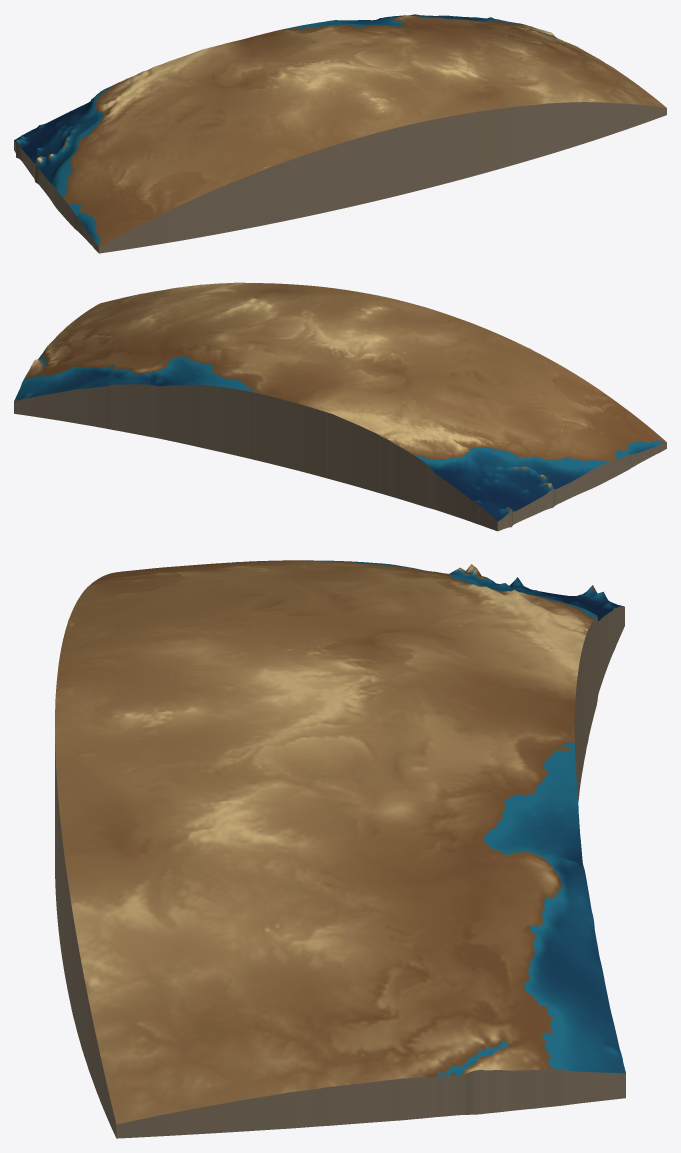
The model's file is terrain3d-sahara.glb.
3 views of the same model, one above another, from view 1: azimuth 30°, elevation 25°; view 2: azimuth 150°, elevation 25°; view 3: azimuth 270°, elevation 25° (orthographic). The views are drawn at different scales.
Visible parts, largest first — view 1: Measured elevation surface, Opaque geographic crop sides; view 2: Measured elevation surface, Opaque geographic crop sides; view 3: Measured elevation surface, Opaque geographic crop sides.
Boxes of the visible parts, box(x1,y1,x2,y2) form: Measured elevation surface: box(14, 14, 666, 246); Opaque geographic crop sides: box(14, 102, 666, 253); Measured elevation surface: box(14, 282, 666, 521); Opaque geographic crop sides: box(14, 384, 666, 531); Measured elevation surface: box(55, 560, 625, 1124); Opaque geographic crop sides: box(55, 606, 625, 1138).
Bounding box in the file's own units: 5300897 × 711811 × 2312242.
Materials: 2 (1 with a texture image).
